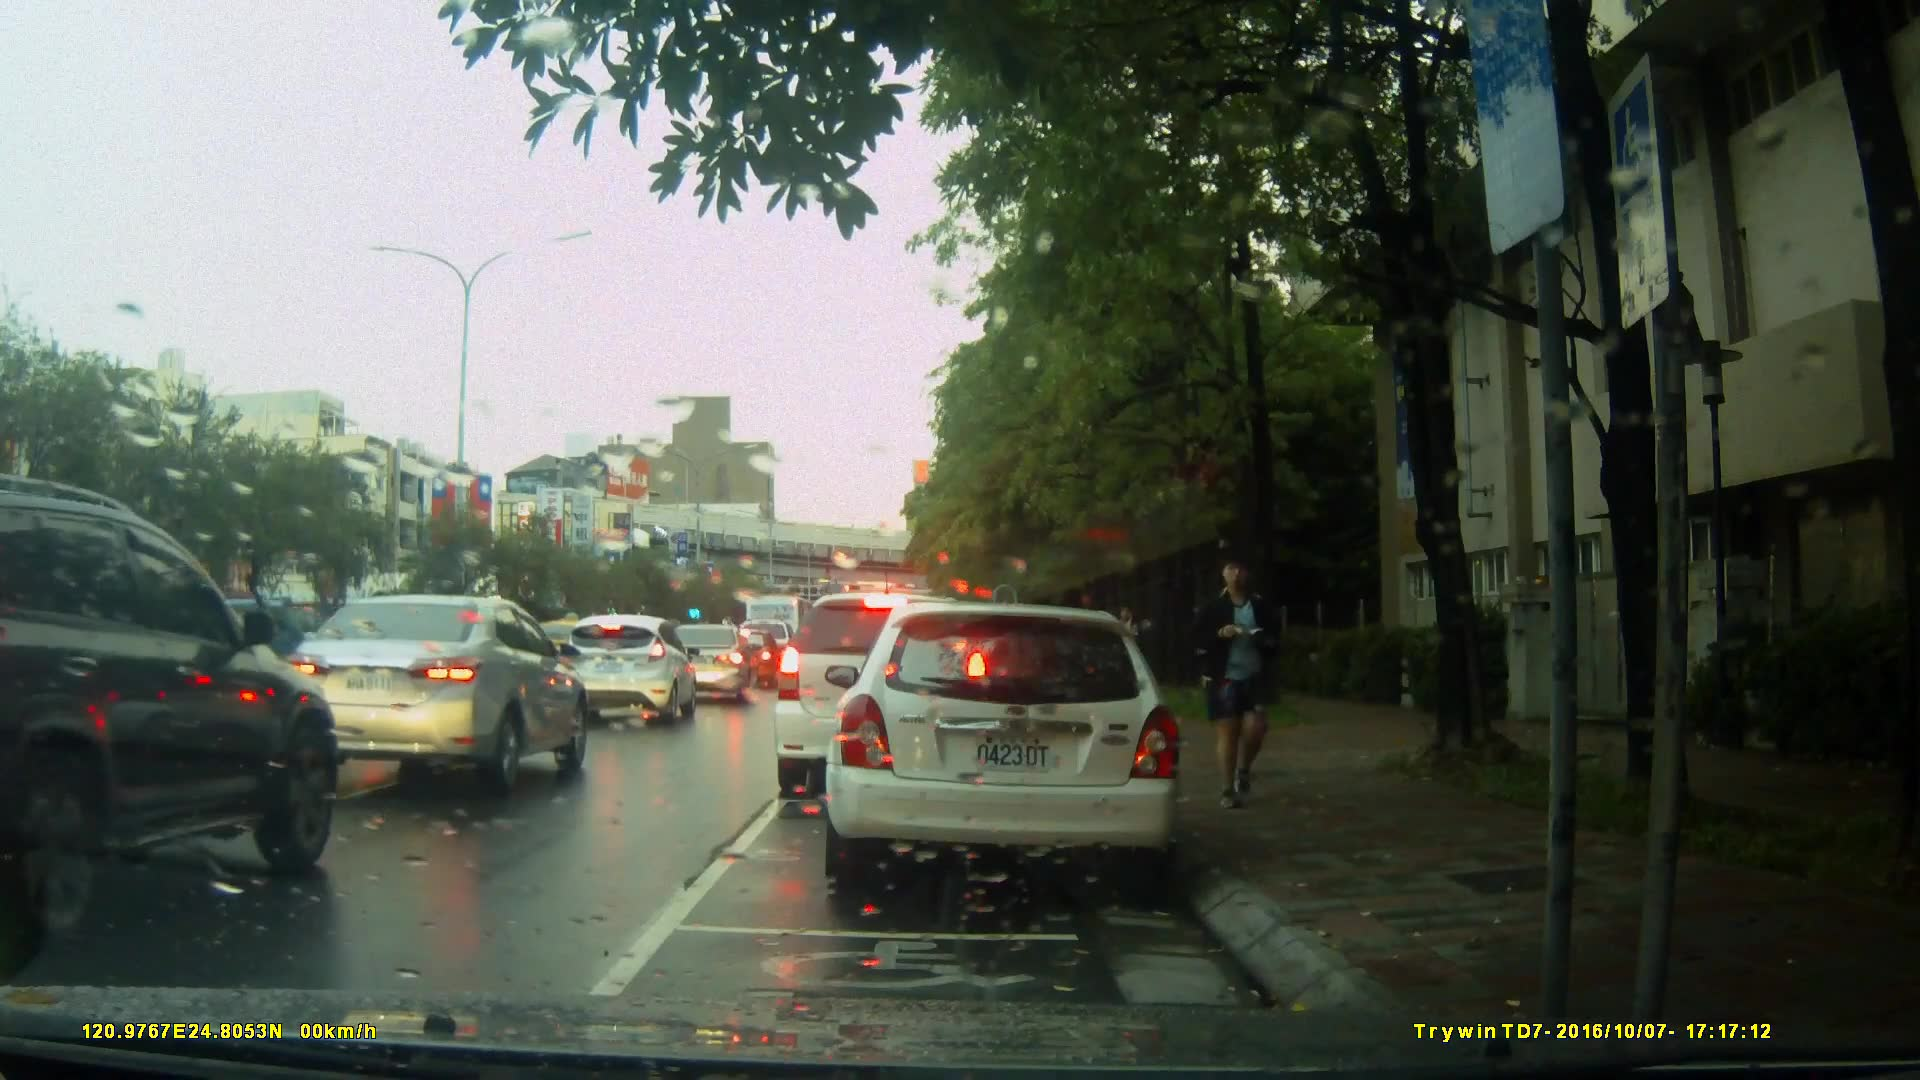pedestrian: (1180, 561, 1297, 817), (1108, 588, 1141, 730)
vehicle: (1, 468, 346, 956), (815, 593, 1197, 890), (281, 594, 592, 799), (770, 590, 995, 802), (553, 611, 698, 727), (664, 623, 754, 702)
